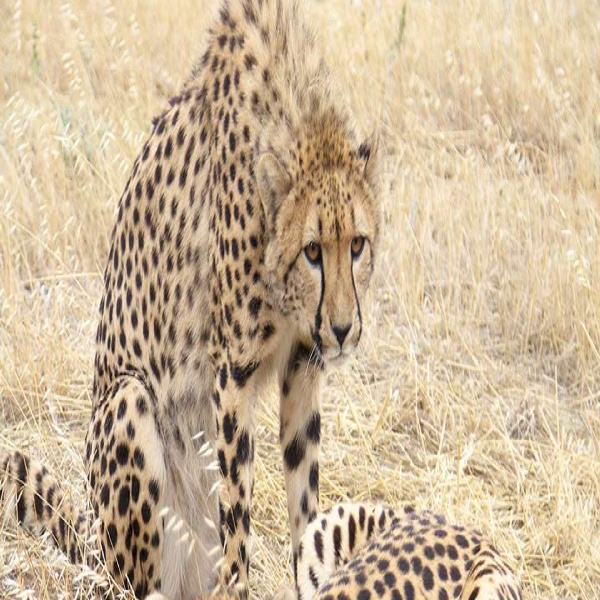Cheetah: (1, 6, 385, 600)
